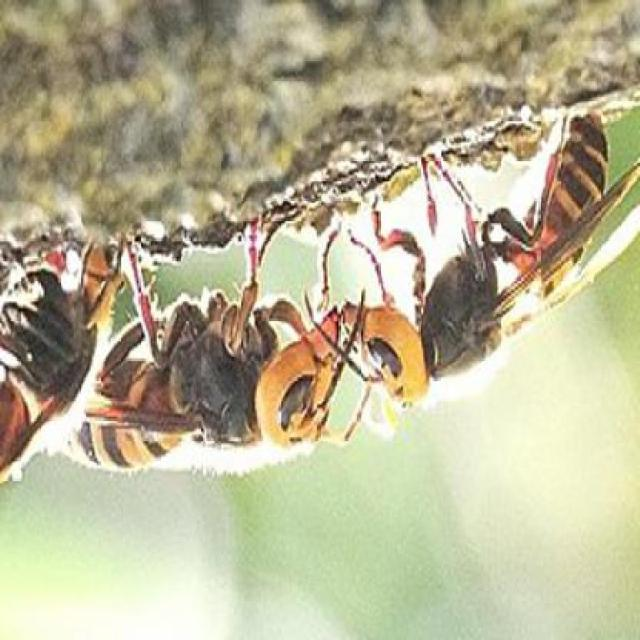Wasp: (344, 96, 634, 415), (79, 168, 329, 480)
